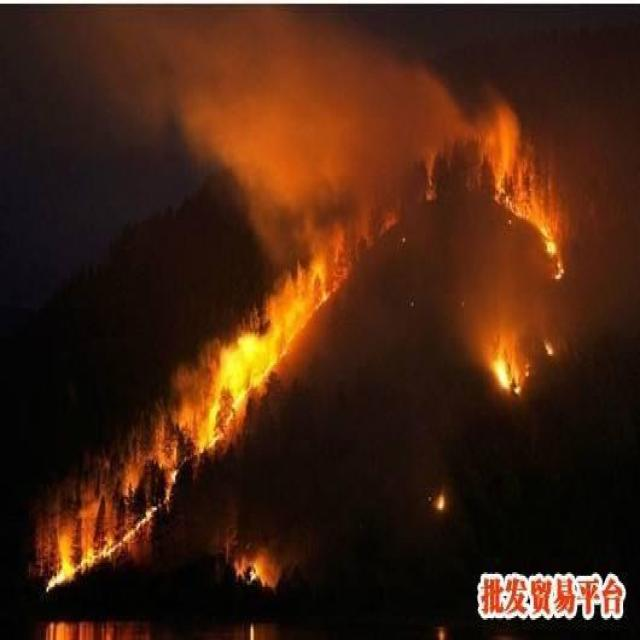fire: (6, 320, 221, 590), (485, 118, 587, 406), (224, 238, 342, 407), (184, 523, 313, 607), (422, 473, 466, 522), (400, 285, 424, 329), (449, 283, 470, 311), (390, 228, 410, 246)
smoke: (176, 13, 463, 207)
